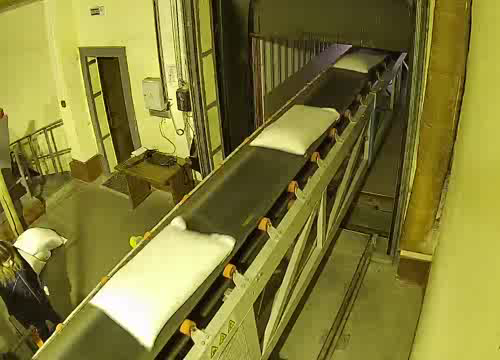bag: (77, 206, 251, 355), (246, 95, 347, 164), (330, 45, 392, 81)
